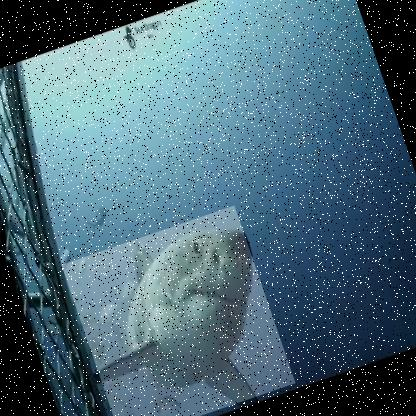white-shark: (61, 204, 298, 415)
